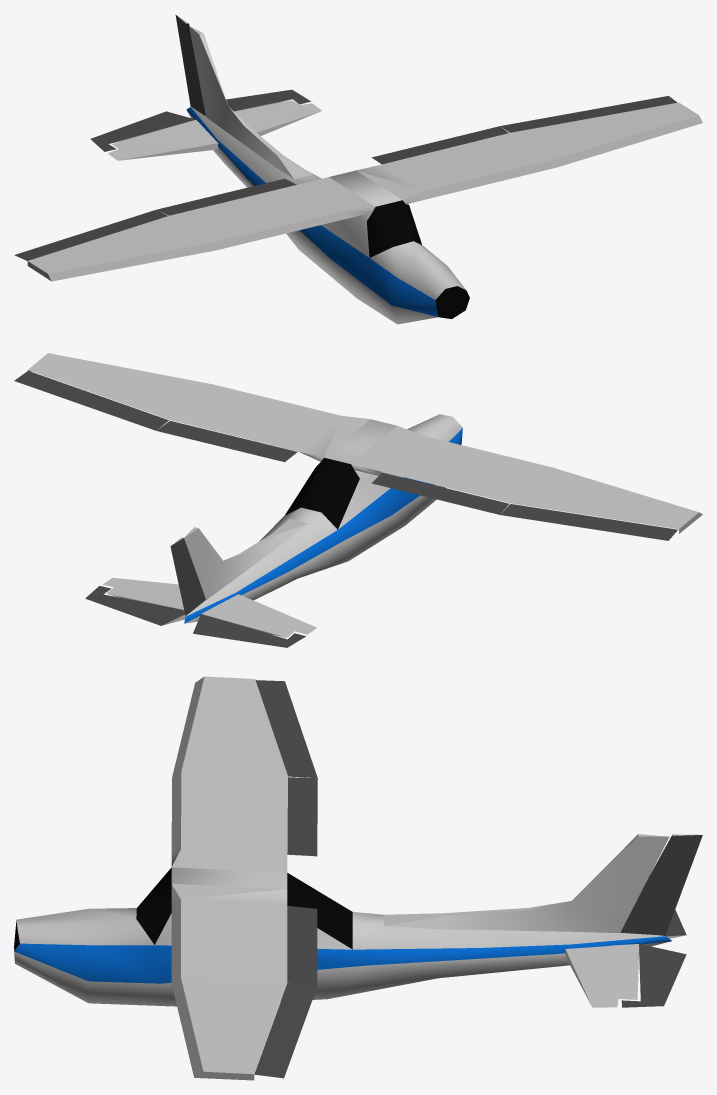
Rendered from SM_Airplane.fbx.
3 renders of one model, top to bottom at view 1: azimuth 30°, elevation 25°; view 2: azimuth 150°, elevation 25°; view 3: azimuth 270°, elevation 25°, orthographic. The views are drawn at different scales.
Visible parts, largest first — view 1: matchsize1; view 2: matchsize1; view 3: matchsize1.
Boxes of the visible parts, x1,y1,x2,y2 form: matchsize1: (14, 15, 702, 324); matchsize1: (14, 353, 702, 647); matchsize1: (14, 676, 702, 1080).
Bounding box in the file's own units: 1102 × 202 × 808.
